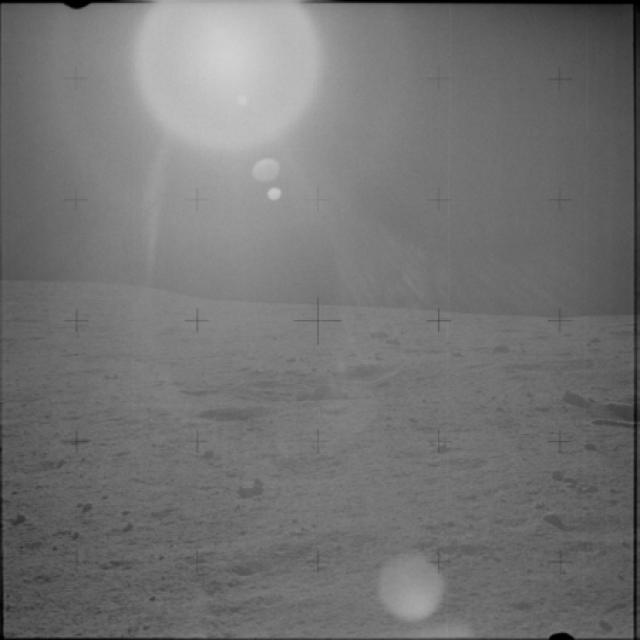crater: (192, 398, 274, 432), (0, 452, 74, 483), (327, 358, 404, 386)
rock: (232, 471, 272, 501), (558, 378, 592, 411), (602, 400, 634, 420), (538, 504, 564, 524)
